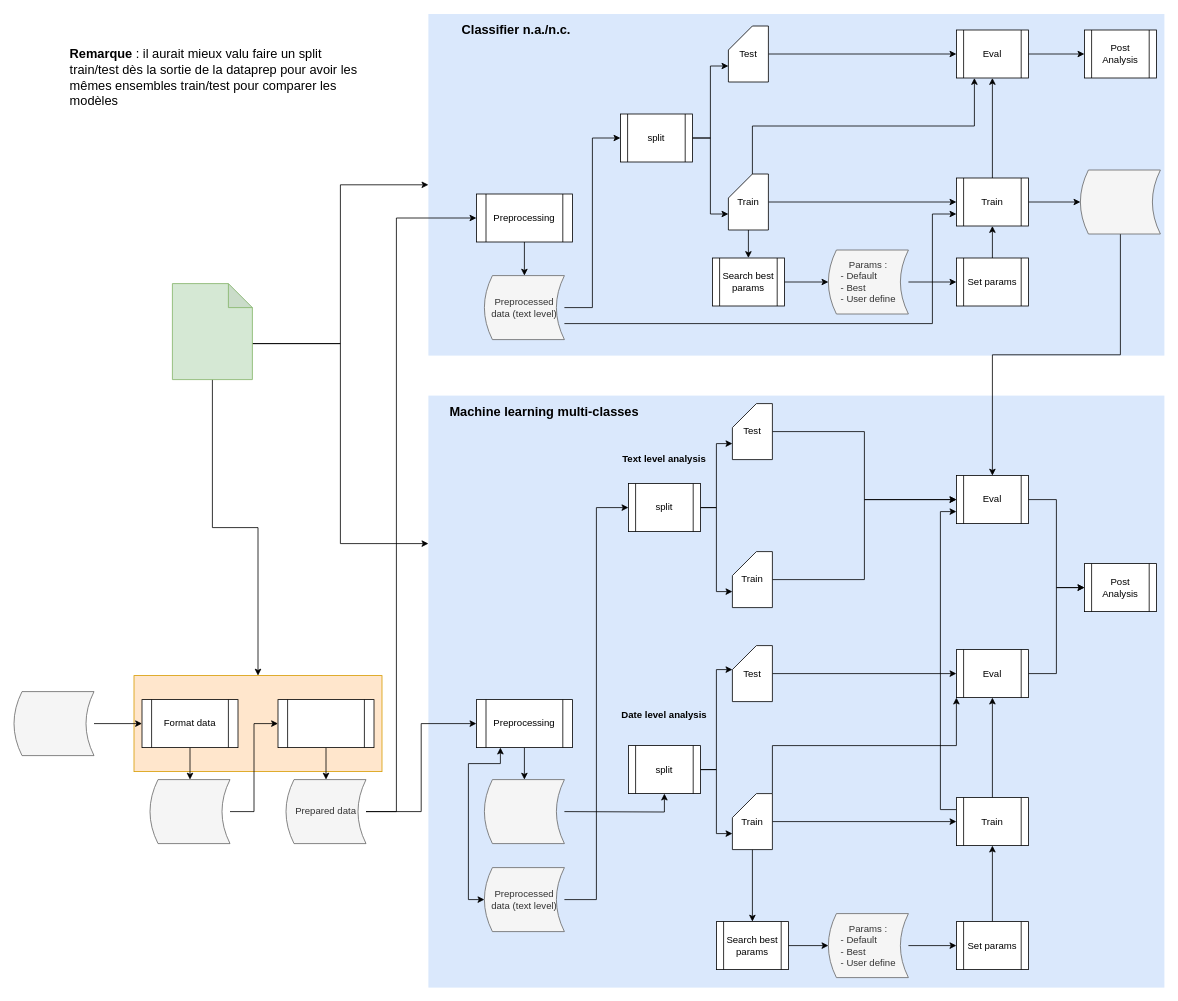
The diagram is 1178 pixels wide and 1001 high, and some of its shapes have lost their labels. The centre of each missing label's shape, as x and y in pixels:
Conf file (user interface): point 212,331
Dataprep: point 325,723
Formatted data: point 189,811
Pickle model: point 1120,201
Preprocessed data (date level): point 524,811
Raw data: point 53,723
